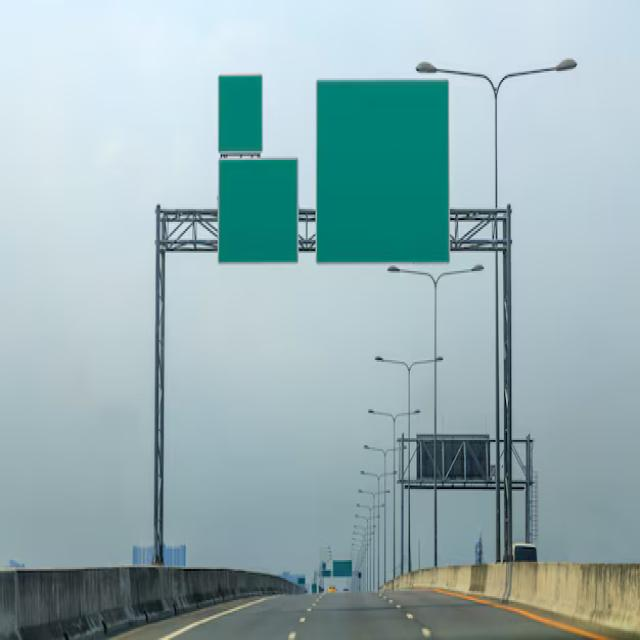Billboard_overhead: (318, 80, 452, 264), (218, 154, 301, 269), (218, 73, 264, 155)
Billboard_overhead_small: (332, 551, 356, 585), (317, 554, 332, 587), (300, 567, 308, 590)
Roadcorner: (426, 582, 620, 638), (162, 585, 291, 638)
Roadlane: (367, 579, 444, 638), (274, 586, 332, 638)
